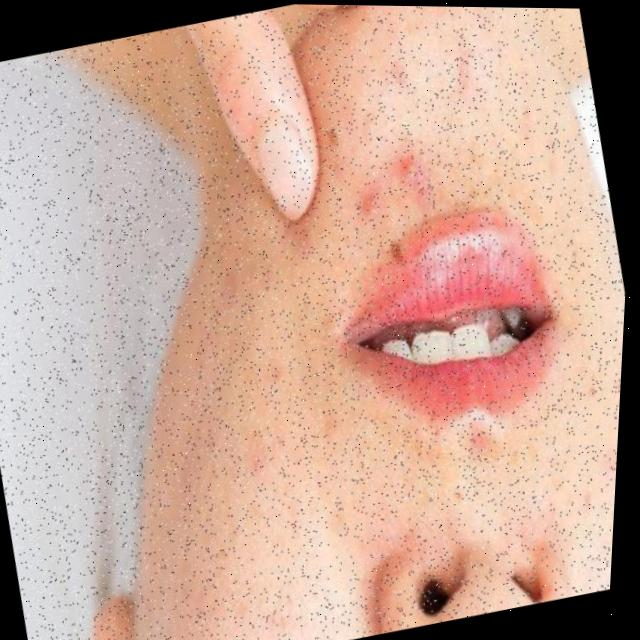Acne: (334, 139, 431, 230)
